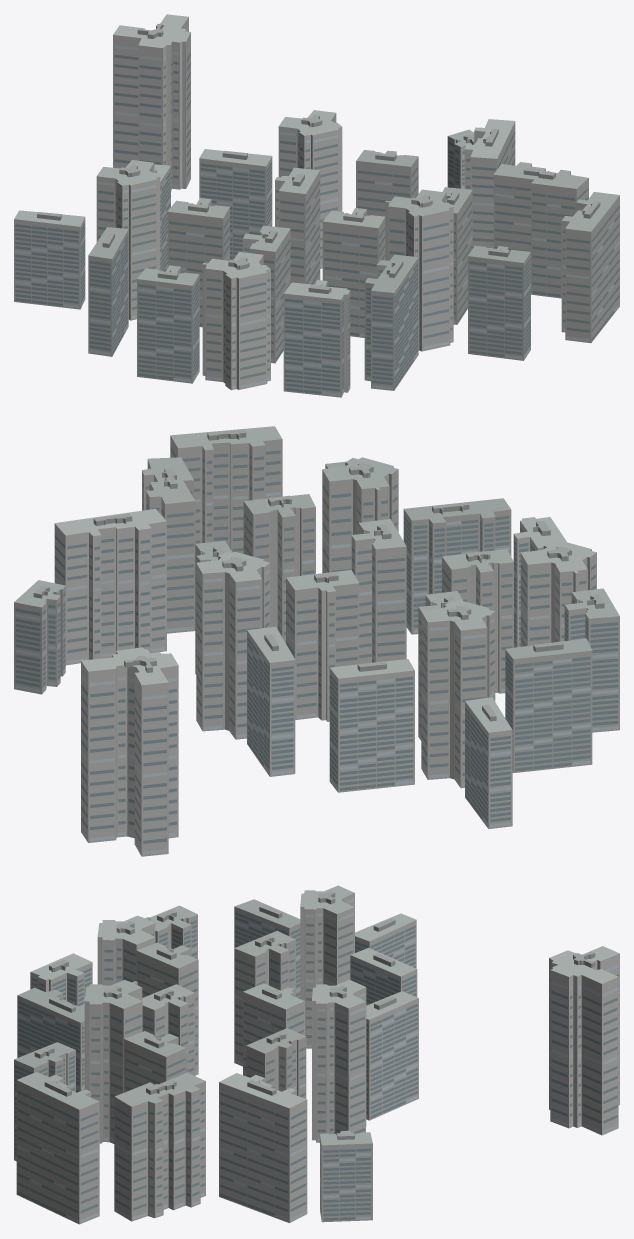
File: apt-a13405003.glb
3 views of the same model, one above another, from view 1: azimuth 30°, elevation 25°; view 2: azimuth 150°, elevation 25°; view 3: azimuth 270°, elevation 25° (orthographic). The views are drawn at different scales.
Parts seen in each view (by area): view 1: apt-a13405003; view 2: apt-a13405003; view 3: apt-a13405003.
Part boxes in pixels (x1,y1,x2,y2): apt-a13405003: [14, 14, 619, 397]; apt-a13405003: [14, 426, 619, 856]; apt-a13405003: [14, 885, 619, 1224].
Size of the model in its own units: 277 by 89 by 314.
